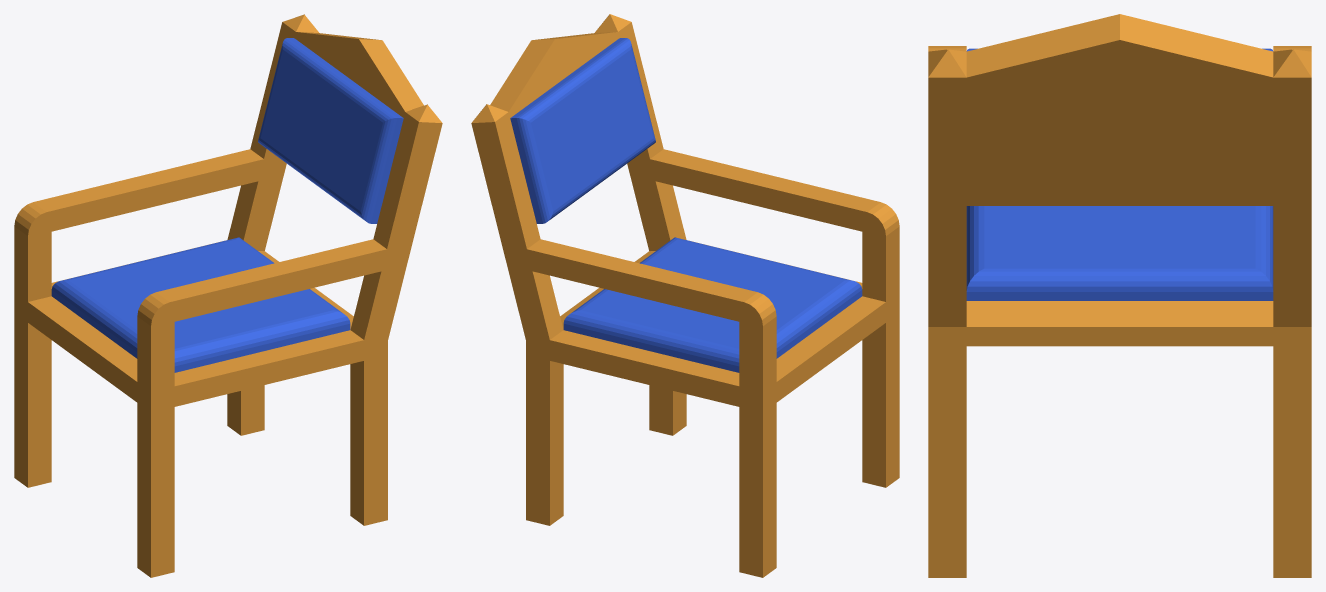
File: Lone Chair.glb
3 renders of one model, left to right at view 1: azimuth 30°, elevation 25°; view 2: azimuth 150°, elevation 25°; view 3: azimuth 270°, elevation 25°, orthographic. The views are drawn at different scales.
Visible parts, largest first — view 1: Cube; view 2: Cube; view 3: Cube.
Boxes of the visible parts, box(x1,y1,x2,y2) form: Cube: box(14, 14, 442, 577); Cube: box(471, 14, 899, 577); Cube: box(928, 14, 1311, 577).
Size of the model in its own units: 0.76 by 1.02 by 0.6.
